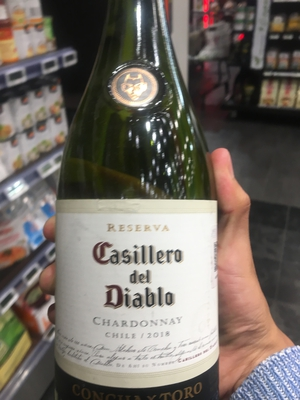casillero del diablo chardonnay: (51, 22, 235, 387)
